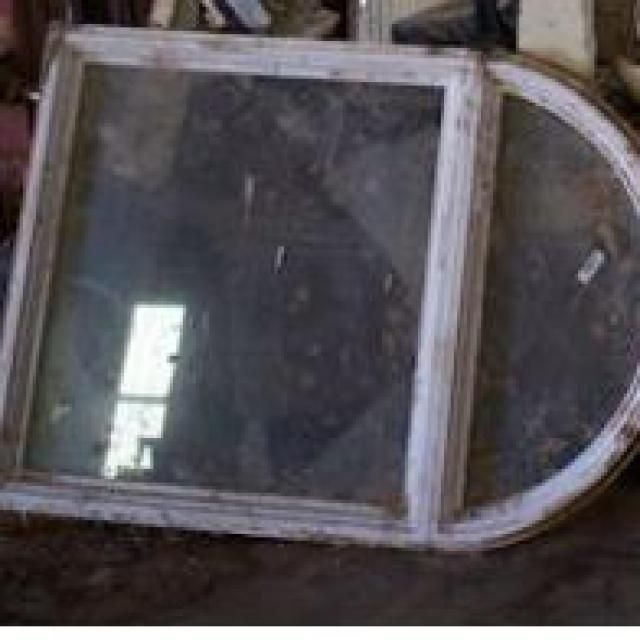electronic: (1, 16, 640, 556)
